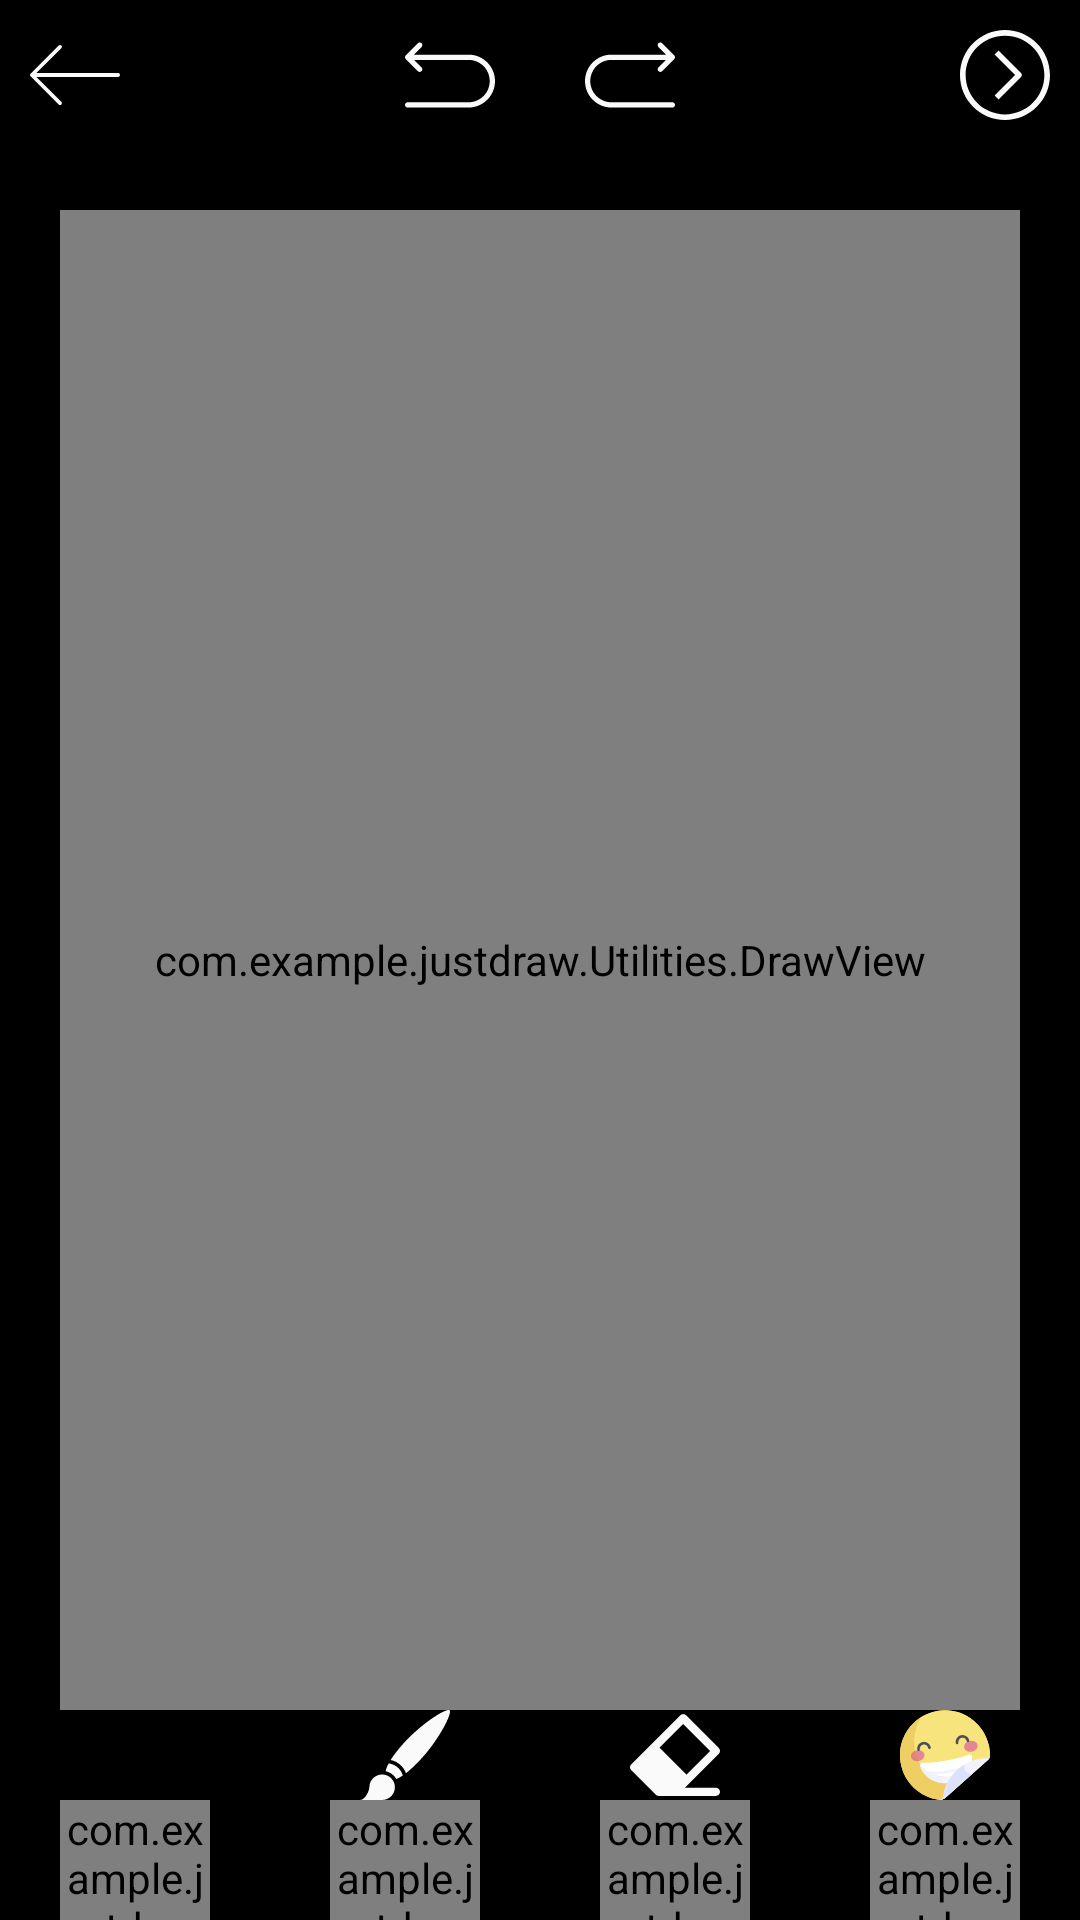

Icon click points for this 1080×1920 phone screenshot, format [x,y]:
eraser: [675,1755]
happy: [945,1755]
left: [75,75]
paint brush: [405,1755]
redo: [630,75]
right arrow circle: [1005,75]
undo: [450,75]
